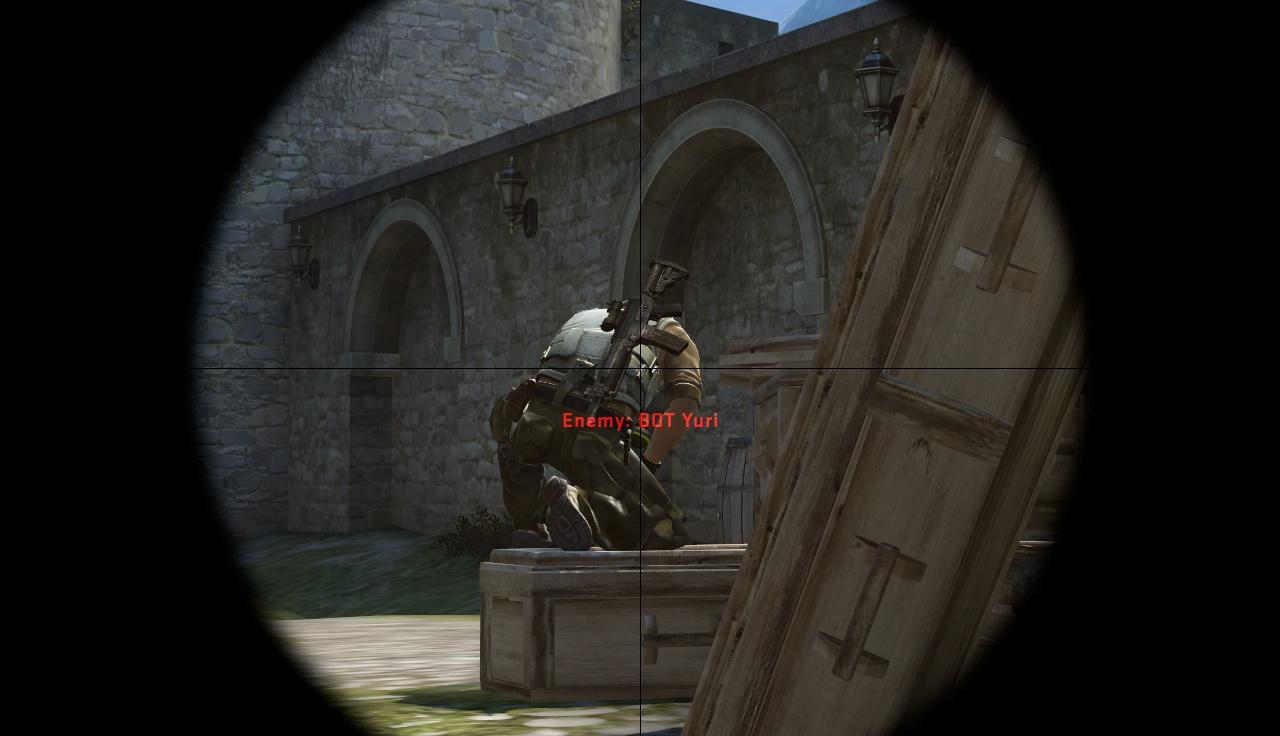tt: (517, 295, 688, 547)
